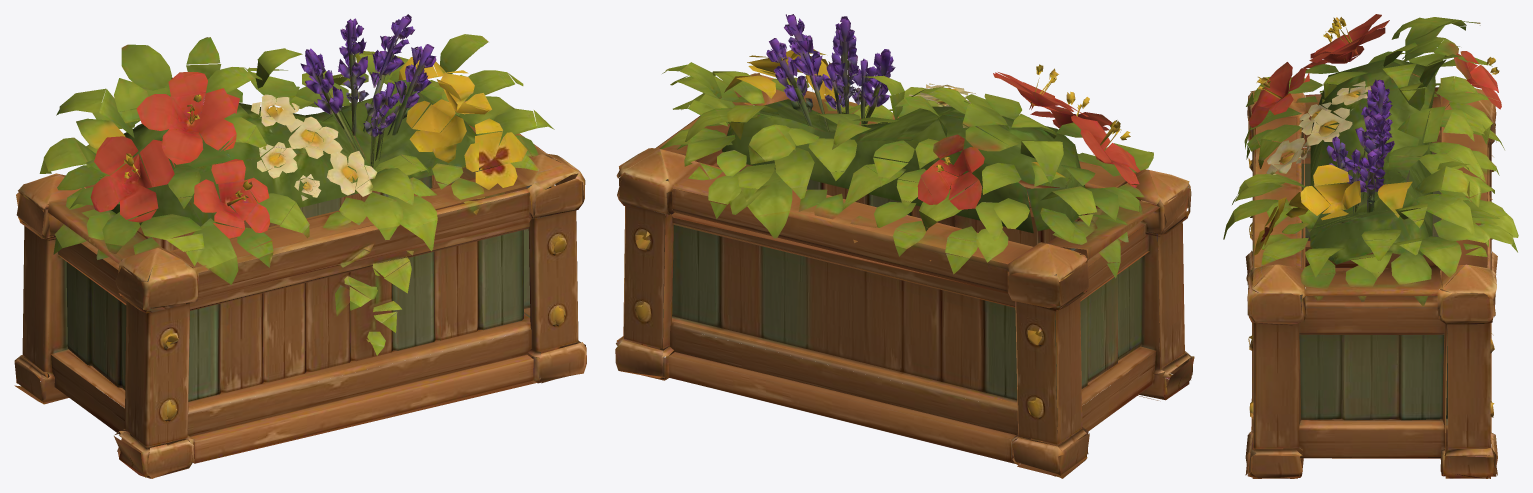
File: flower_box.glb
3 views of the same model, side by side, from view 1: azimuth 30°, elevation 25°; view 2: azimuth 150°, elevation 25°; view 3: azimuth 270°, elevation 25° (orthographic). The views are drawn at different scales.
Parts seen in each view (by area): view 1: flower_box; view 2: flower_box; view 3: flower_box.
Part boxes in pixels (x1,y1,x2,y2): flower_box: (14, 14, 586, 478); flower_box: (615, 14, 1194, 478); flower_box: (1223, 14, 1518, 478).
Size of the model in its own units: 1 by 0.7296 by 0.5996.
Materials: 1 (1 with a texture image).
